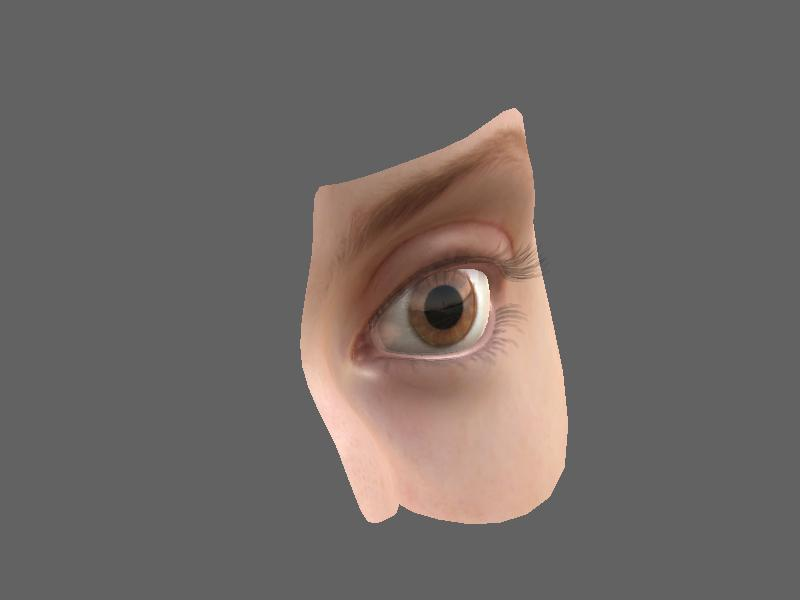iris: (406, 278, 483, 344)
